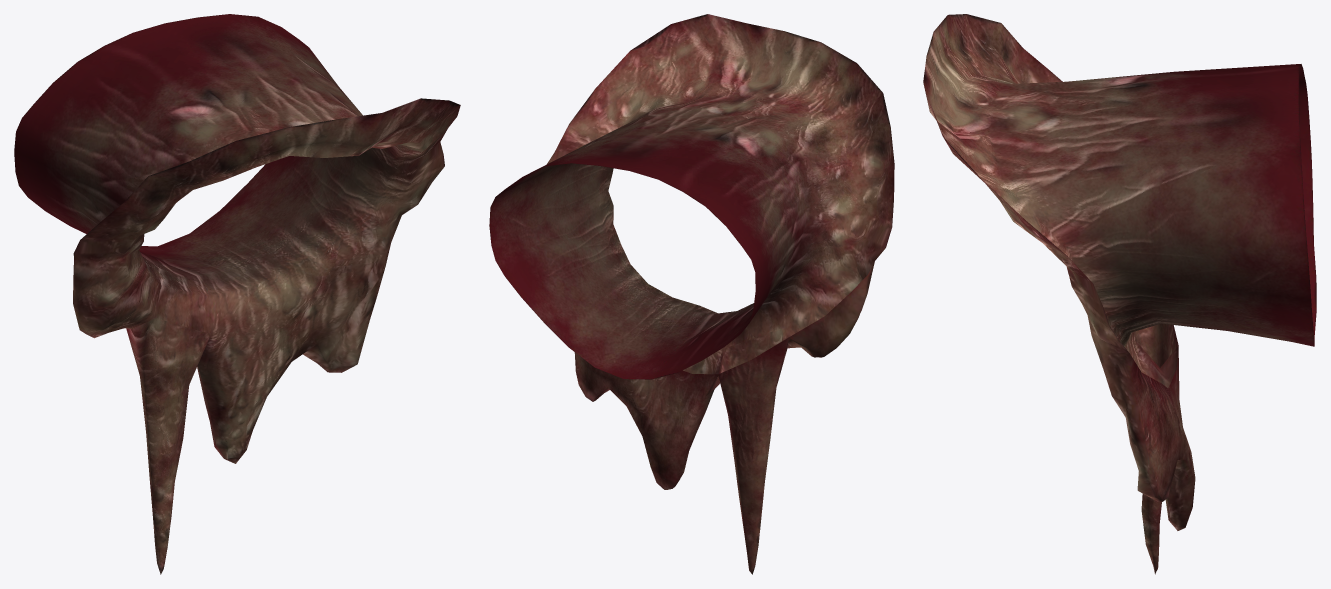
The model's file is FBX_goo_hole.fbx.
The picture shows the model from 3 angles, left to right: view 1: azimuth 30°, elevation 25°; view 2: azimuth 150°, elevation 25°; view 3: azimuth 270°, elevation 25°; orthographic projection. The views are drawn at different scales.
Visible parts, largest first — view 1: goo_hole_geo; view 2: goo_hole_geo; view 3: goo_hole_geo.
Boxes of the visible parts, x1,y1,x2,y2 form: goo_hole_geo: (14, 14, 460, 574); goo_hole_geo: (489, 14, 894, 574); goo_hole_geo: (923, 14, 1316, 574).
Size of the model in its own units: 2.34 by 1.94 by 3.03.
